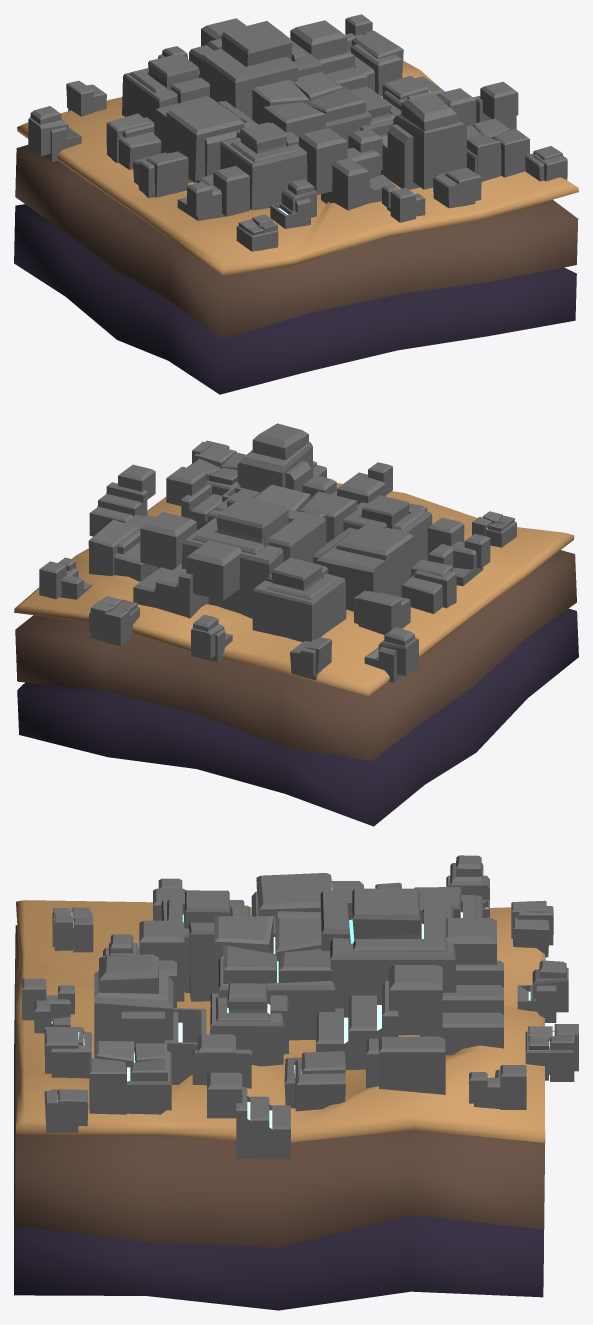
File: mine_iron.glb
3 views of the same model, one above another, from view 1: azimuth 30°, elevation 25°; view 2: azimuth 150°, elevation 25°; view 3: azimuth 270°, elevation 25° (orthographic). The views are drawn at different scales.
Visible parts, largest first — view 1: Plane.005, 立方体.014; view 2: Plane.005, 立方体.014; view 3: Plane.005, 立方体.014.
Part boxes in pixels (x1,y1,x2,y2): Plane.005: (14, 60, 578, 394); 立方体.014: (28, 14, 567, 251); Plane.005: (14, 483, 578, 826); 立方体.014: (39, 423, 516, 682); Plane.005: (14, 900, 545, 1310); 立方体.014: (22, 855, 578, 1158).
Size of the model in its own units: 43.97 by 25.04 by 42.65.
3 materials, 1 textured.
